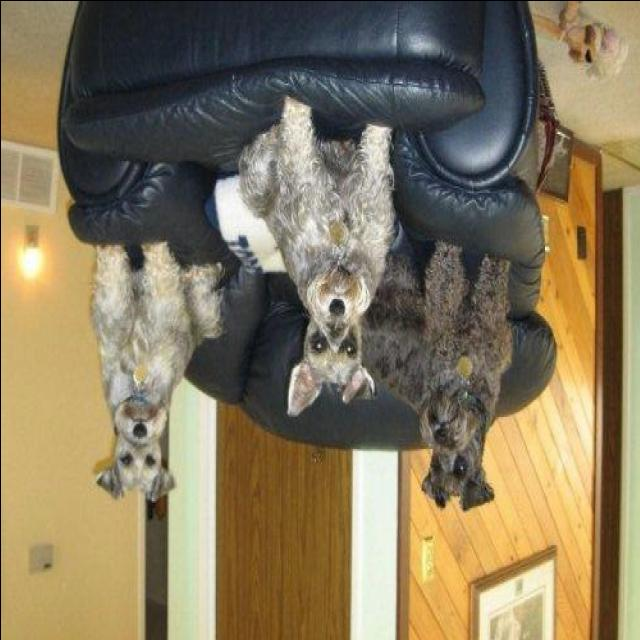standard_schnauzer: (240, 98, 394, 414), (358, 239, 506, 509), (90, 238, 222, 502)
